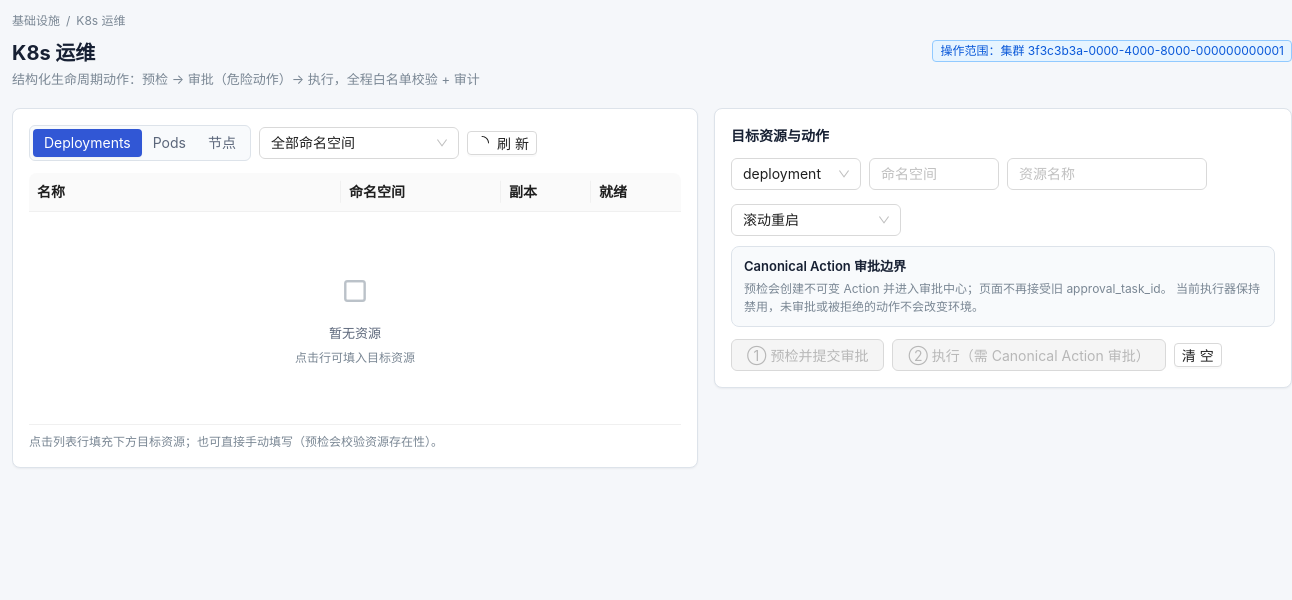
Scenario: K8sActions canonical workflow › submits the selected target as a canonical proposal and waits for approval
The image size is (1292, 600).
Type "prod" into the field with placeholder "命名空间" at [934, 174], box [869, 158, 999, 190]
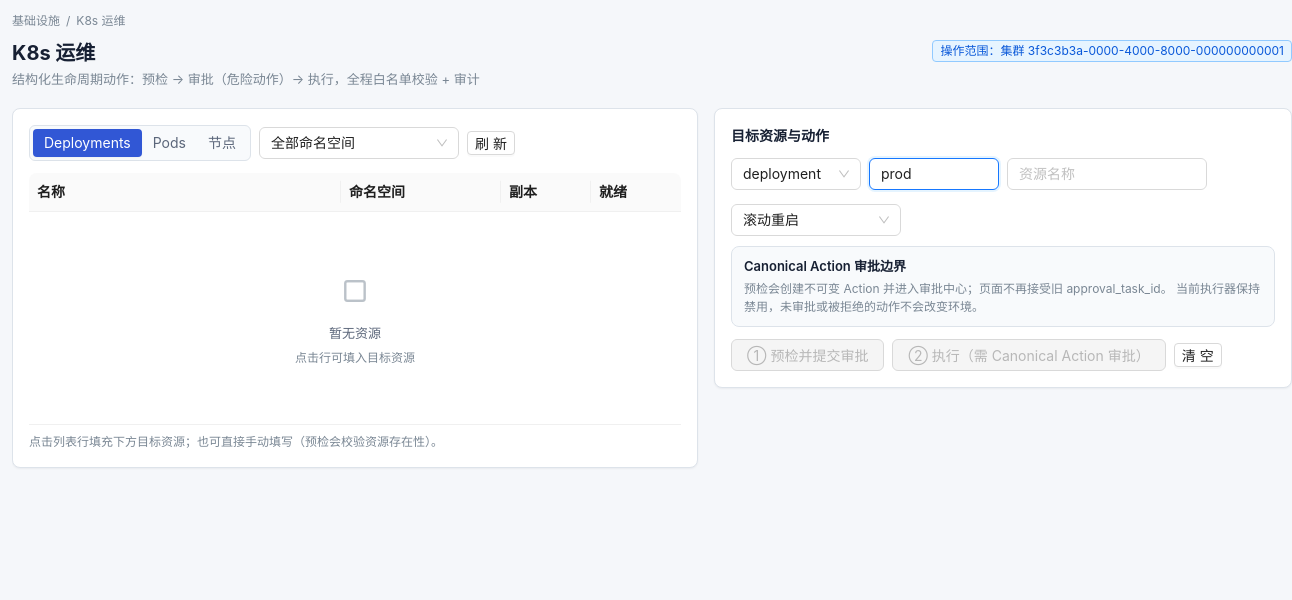
Type "orders" into the field with placeholder "资源名称" at [1107, 174], box [1007, 158, 1207, 190]
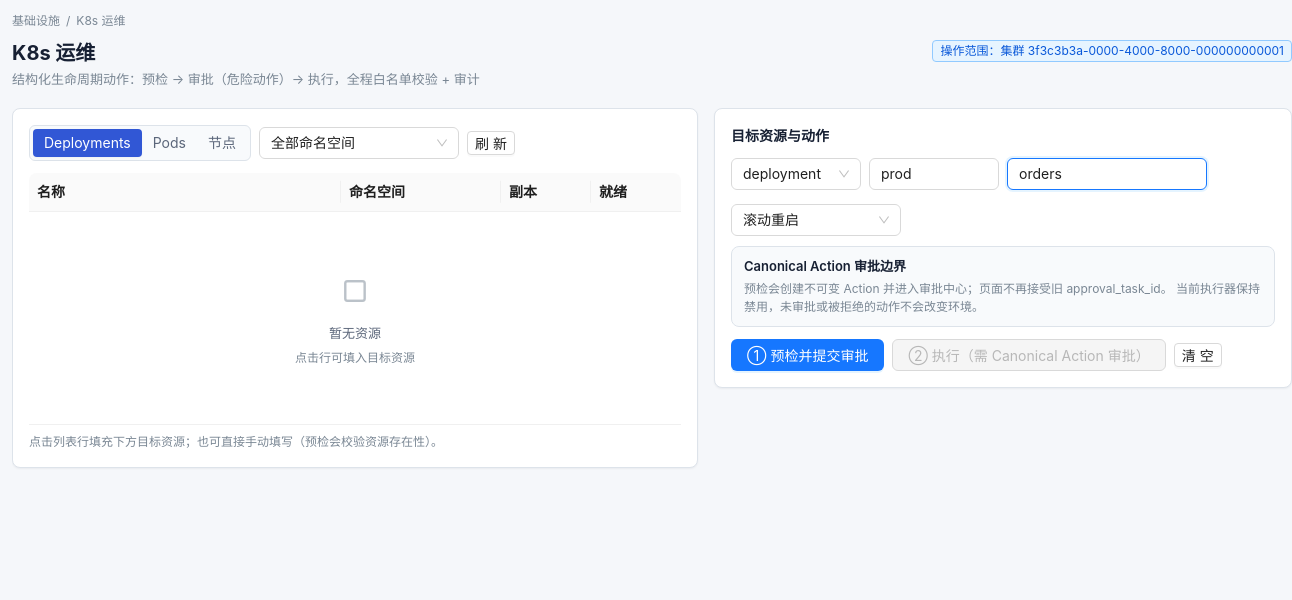
Click the button "① 预检并提交审批" at [808, 355], box [731, 339, 884, 371]
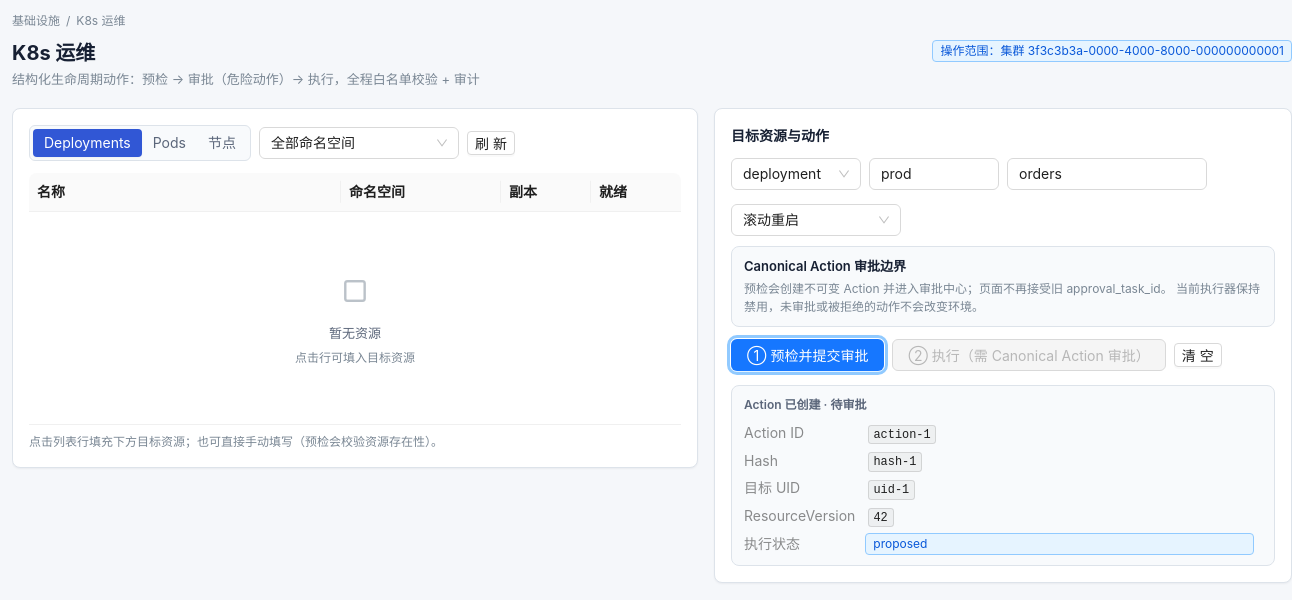
Expected: the button "② 执行（需 Canonical Action 审批）" is disabled, [892, 339, 1166, 371]
Result: the text "Action 已创建 · 待审批" is shown at [744, 397, 866, 412]
